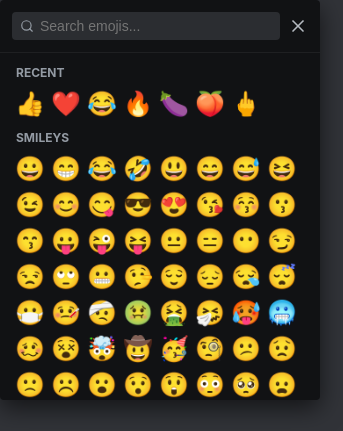
Test: EmojiPicker › recent section is hidden during search
The image size is (343, 431).
Type "test" into the field with placeholder "Search emojis..." at x=146, y=26, box [12,12,280,40]
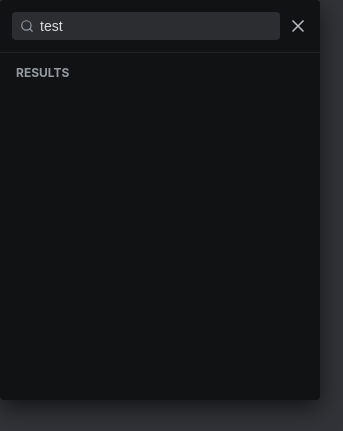
Result: the text "Recent" is gone
